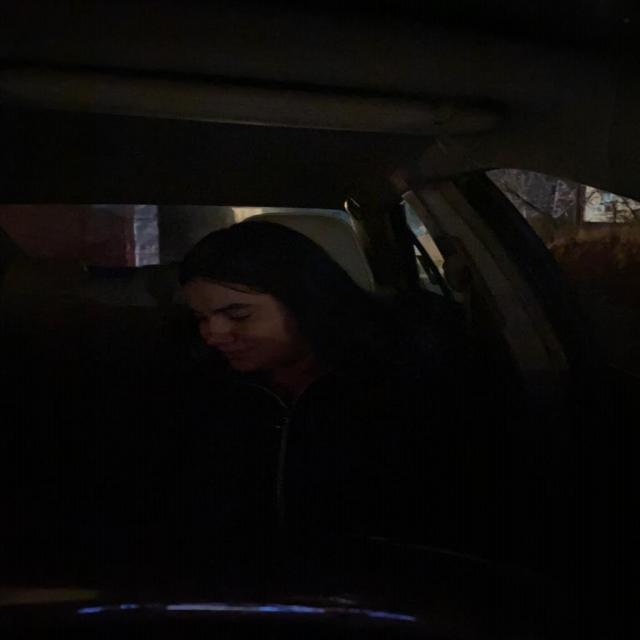drowsy: (167, 241, 344, 383)
